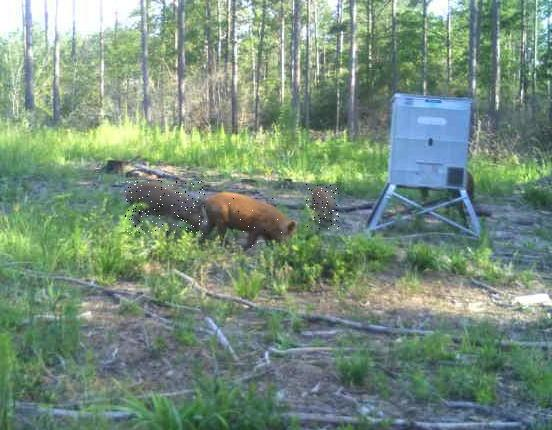Hog: (199, 190, 296, 254), (125, 181, 205, 235), (306, 185, 339, 230)
